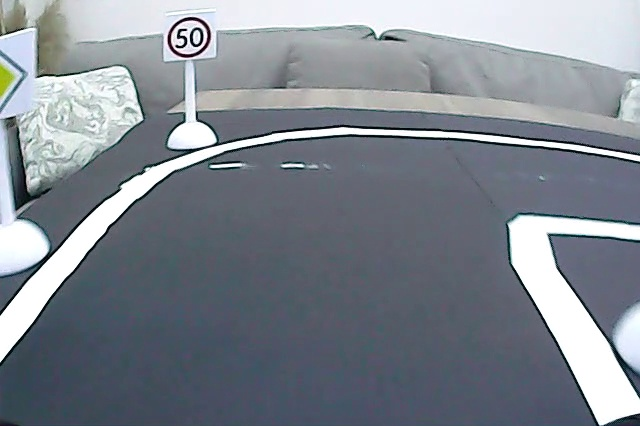speed limit 50: (167, 16, 216, 57)
